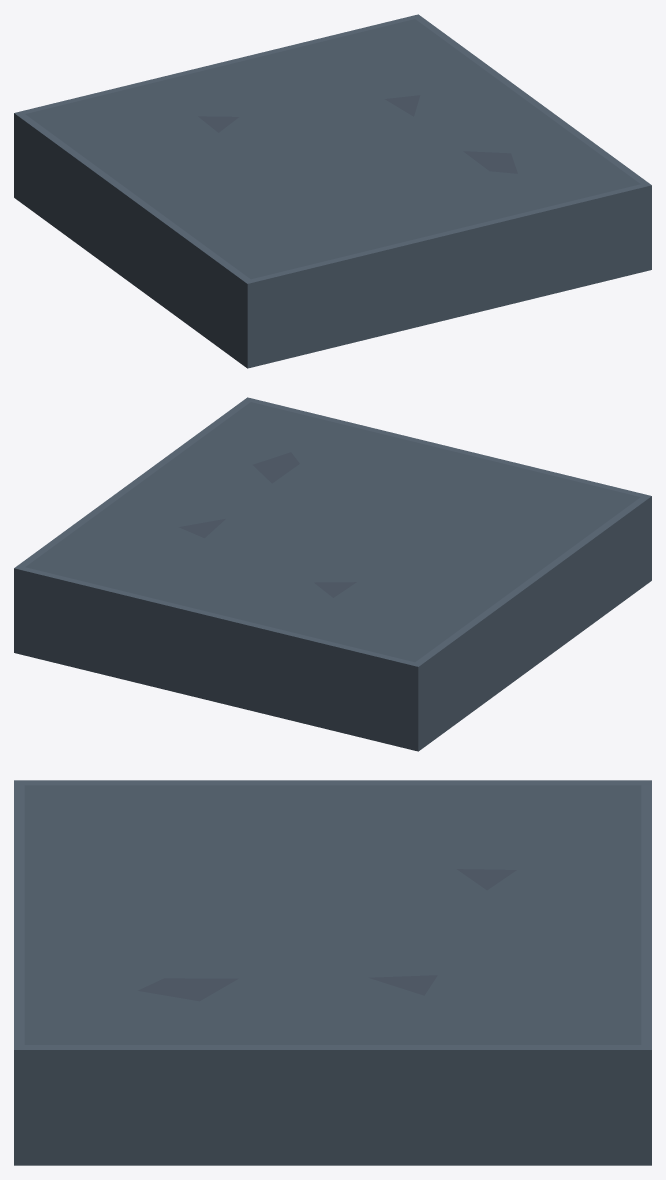
Rendered from ConcrateSlabs_C_4_3.fbx.
3 renders of one model, top to bottom at view 1: azimuth 30°, elevation 25°; view 2: azimuth 150°, elevation 25°; view 3: azimuth 270°, elevation 25°, orthographic. The views are drawn at different scales.
Visible parts, largest first — view 1: ConcrateSlabs_C_4_3; view 2: ConcrateSlabs_C_4_3; view 3: ConcrateSlabs_C_4_3.
Part boxes in pixels (left/top/right/bottom): ConcrateSlabs_C_4_3: left=14, top=14, right=651, bottom=368; ConcrateSlabs_C_4_3: left=14, top=397, right=651, bottom=751; ConcrateSlabs_C_4_3: left=14, top=780, right=651, bottom=1165.
Bounding box in the file's own units: 200 × 40 × 200.
